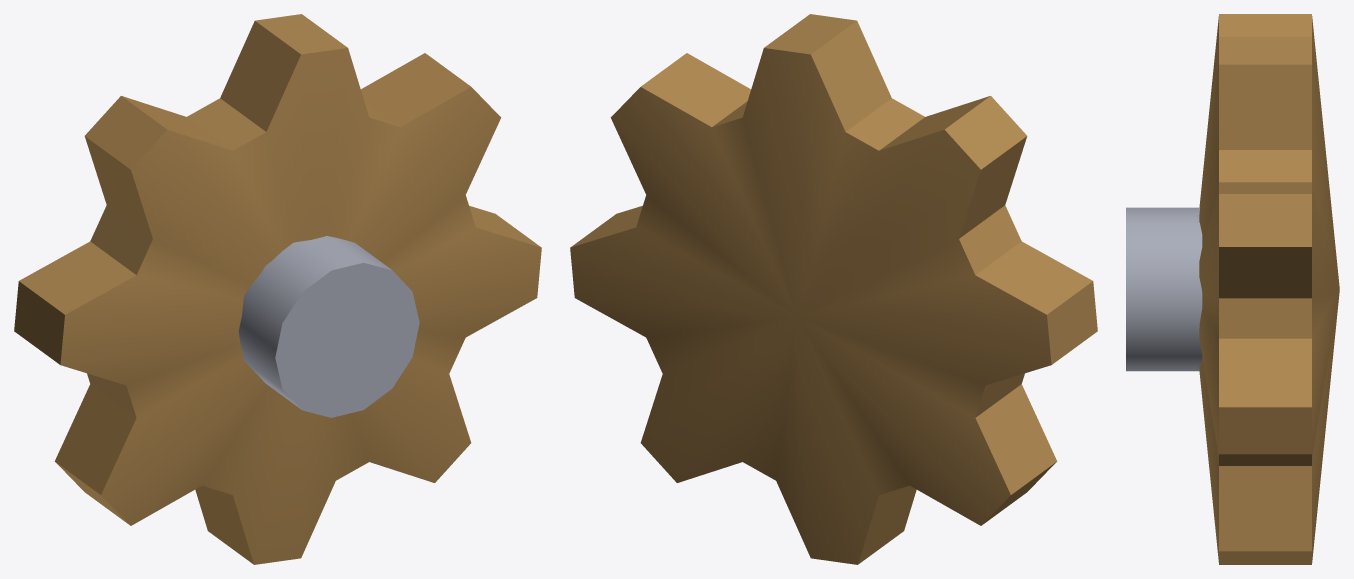
File: Bit_Gear.fbx
The picture shows the model from 3 angles, left to right: view 1: azimuth 30°, elevation 25°; view 2: azimuth 150°, elevation 25°; view 3: azimuth 270°, elevation 25°; orthographic projection.
Visible parts, largest first — view 1: Bit_Gear; view 2: Bit_Gear; view 3: Bit_Gear.
Boxes of the visible parts, bbox=[...] form: Bit_Gear: bbox=[14, 14, 541, 564]; Bit_Gear: bbox=[570, 14, 1097, 564]; Bit_Gear: bbox=[1126, 14, 1339, 564].
Bounding box in the file's own units: 0.048 × 0.048 × 0.0184.
